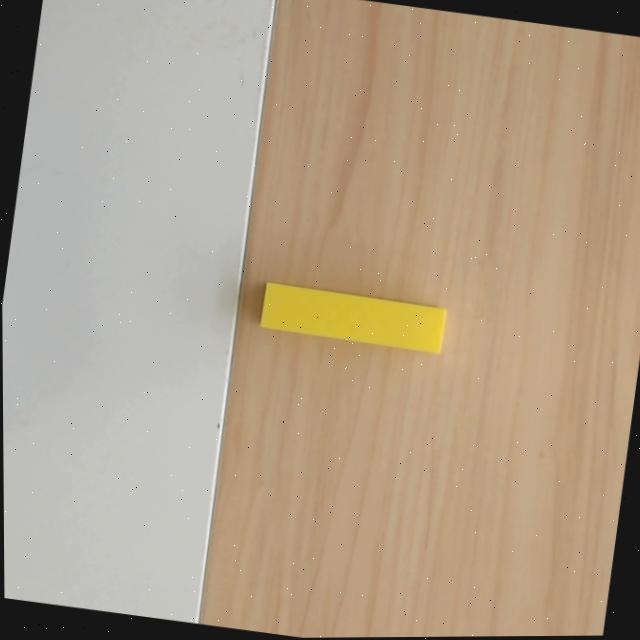Balok-Kuning-1002525: (258, 281, 446, 355)
